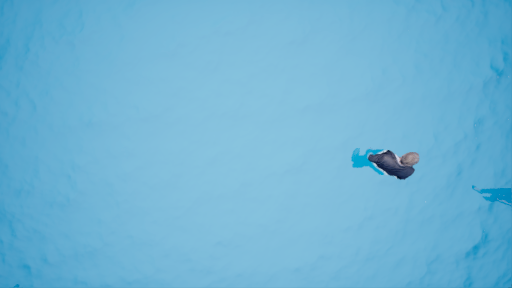person: (348, 145, 420, 183)
